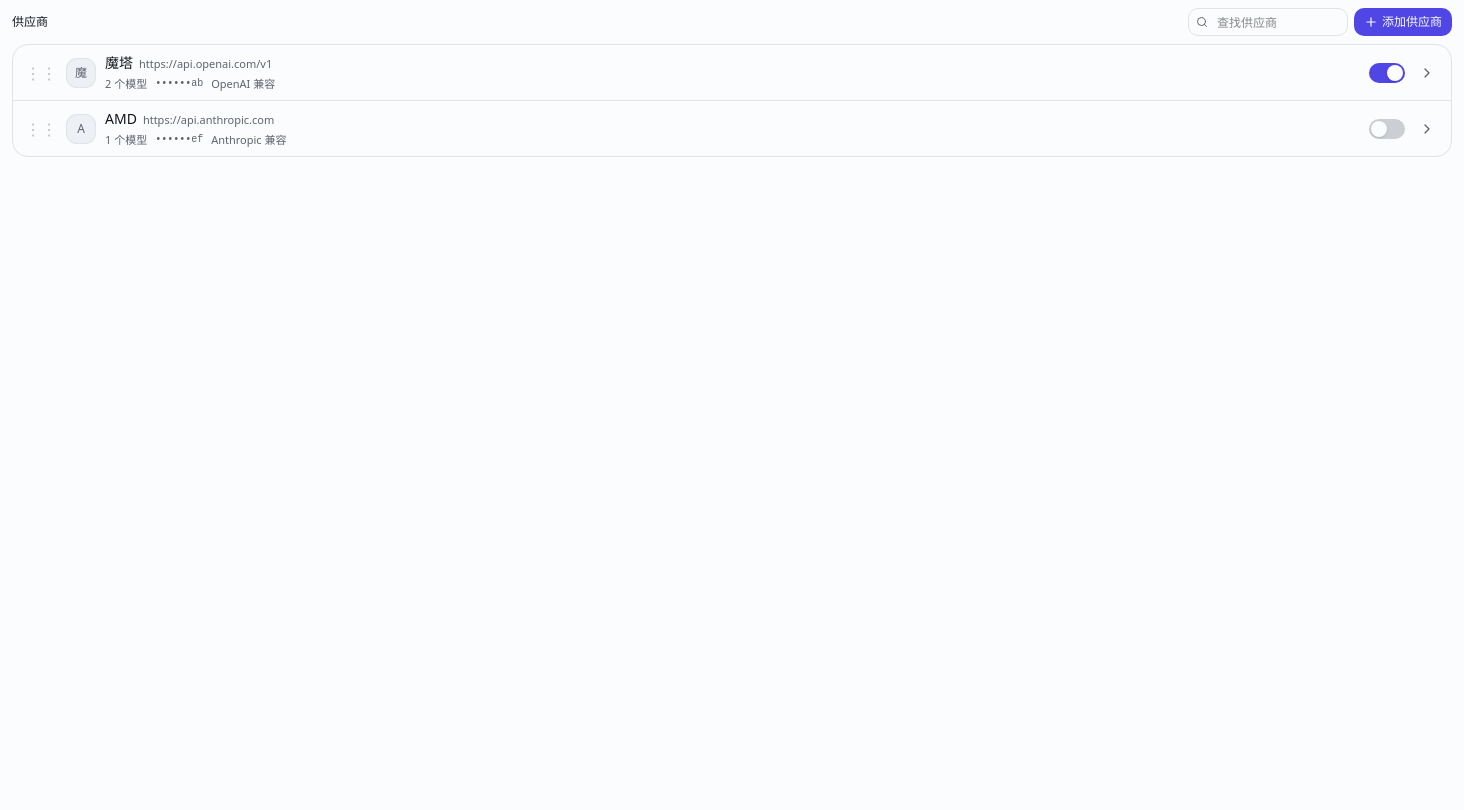
it: 供应商详情 › 测试连接：用当前表单值真发一次，结论就地显示在标题行（不进浮层）
This screenshot has width=1464, height=810.
Click the button named "配置 魔塔".
click(1427, 72)  # box [1415,60,1439,84]
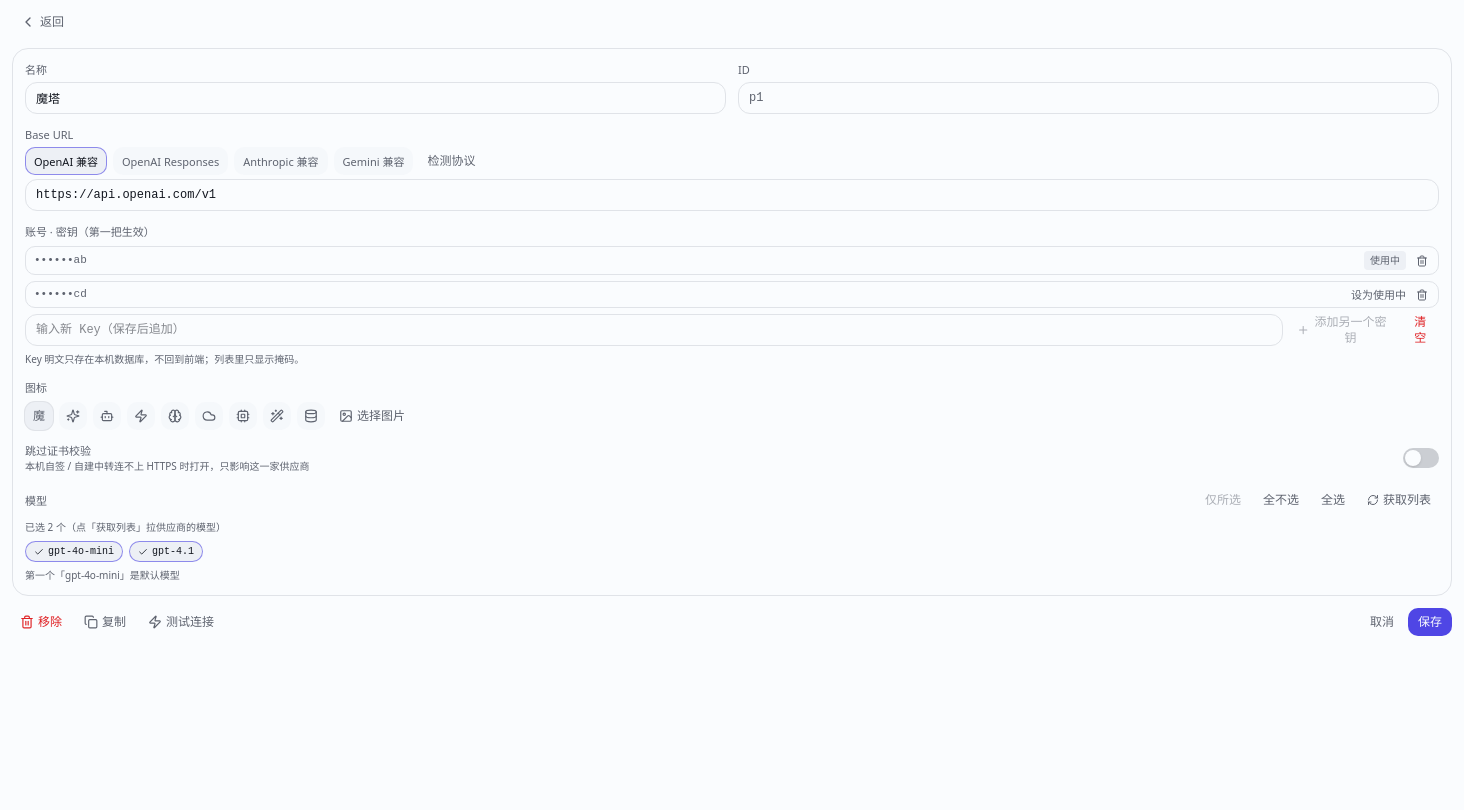
Click the button "测试连接".
click(181, 622)  # box [140,608,222,636]
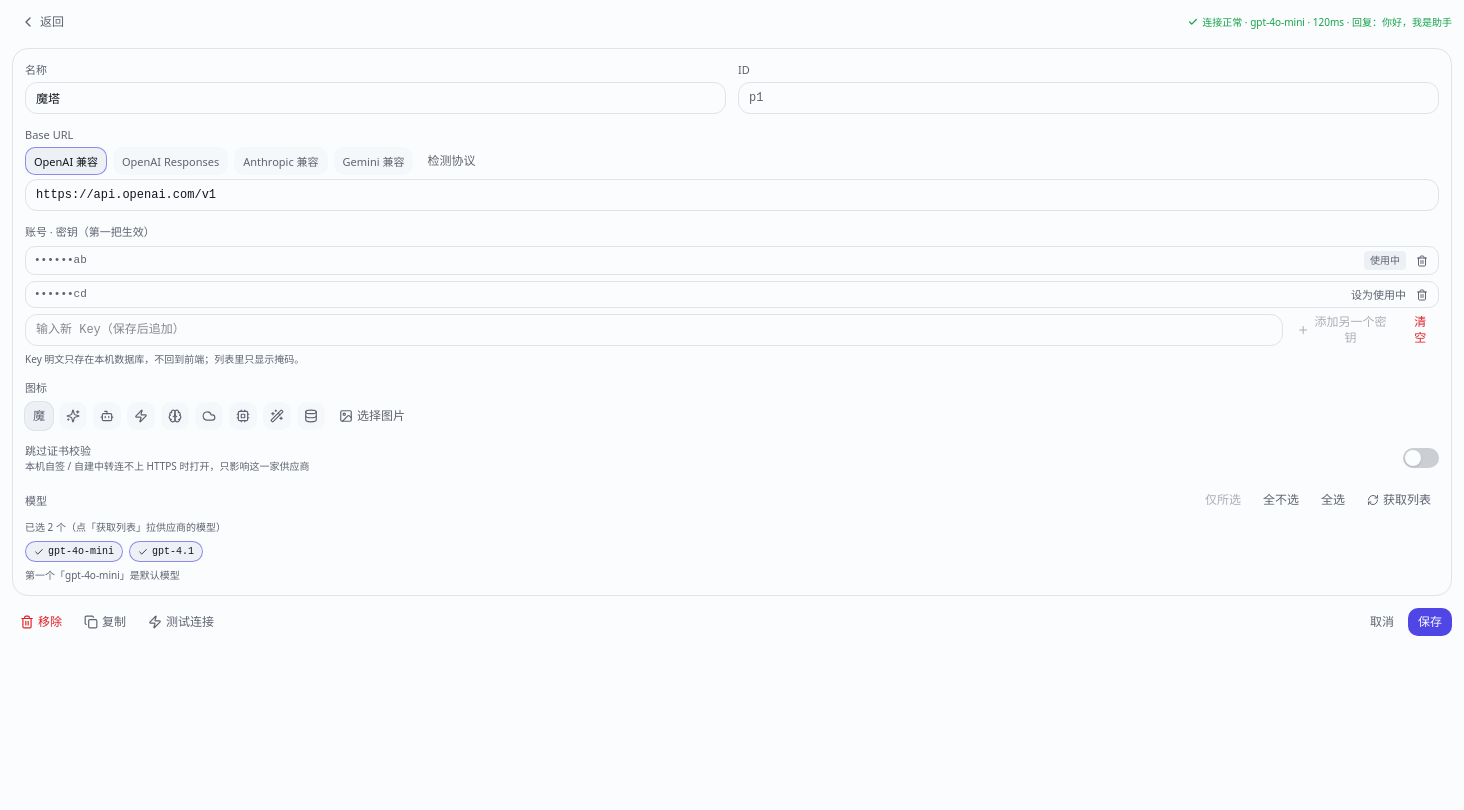
Expected: the button "gpt-4o-mini" is shown, [25,541,123,562]
Expected: the message shows "连接正常", [1202,14,1452,28]
Expected: the message shows "120ms", [1202,14,1452,28]
